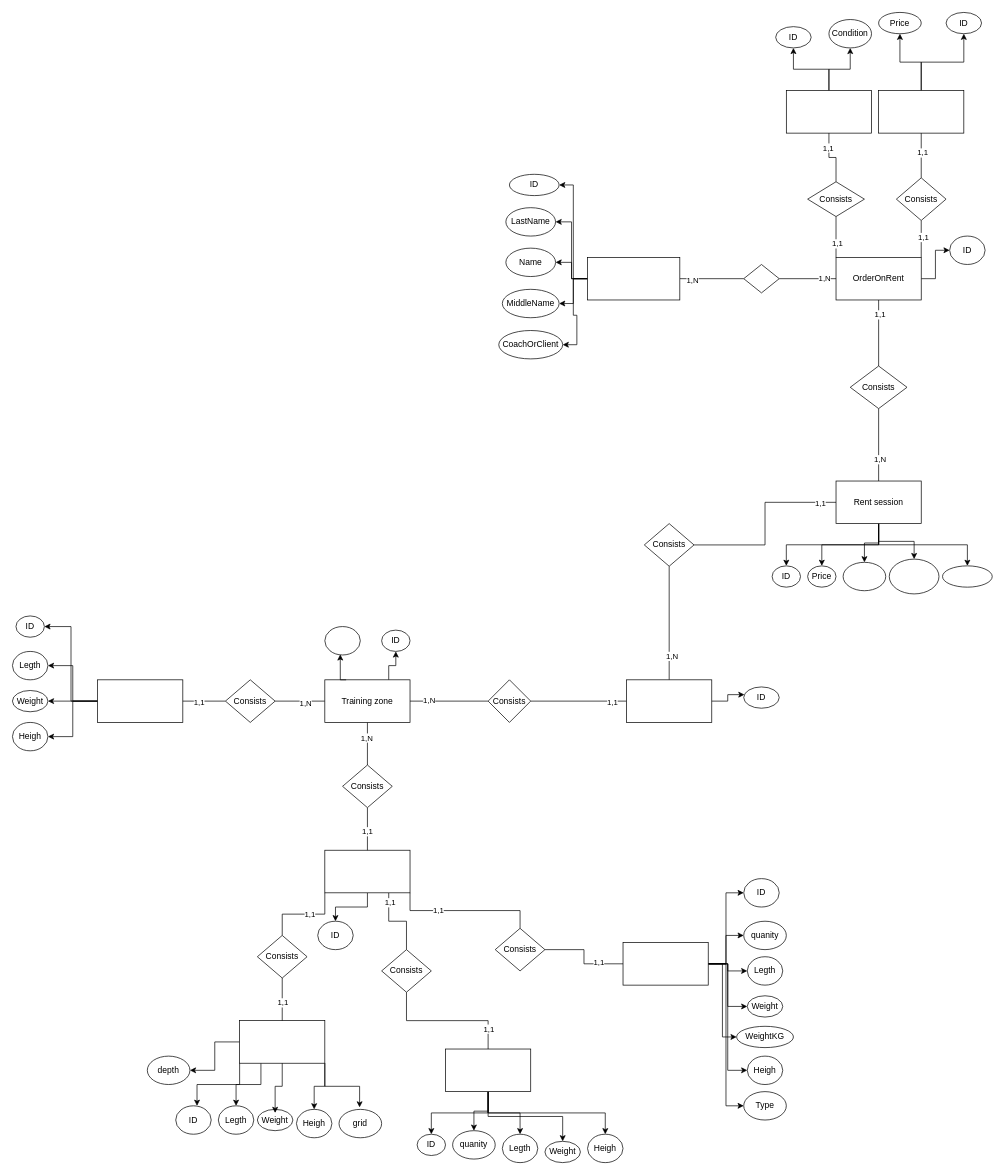
Image size: 1005x1175. Some labels were removed from this diagram. The centre of each missing label's shape, as x and y in pixels:
"Accept" belongs at [829,111].
"Duration" belongs at [967,576].
"End time" belongs at [914,576].
"Hockey gates" belongs at [282,1041].
"Human" belongs at [633,278].
"make" belongs at [761,278].
"Number" belongs at [342,640].
"Path of cones" belongs at [488,1070].
"PathOfWashers" belongs at [665,963].
"ReserveOnOrder" belongs at [921,111].
"Service" belongs at [669,700].
"Size" belongs at [140,700].
"Sports equipment" belongs at [367,871].
"Start time" belongs at [864,576].
